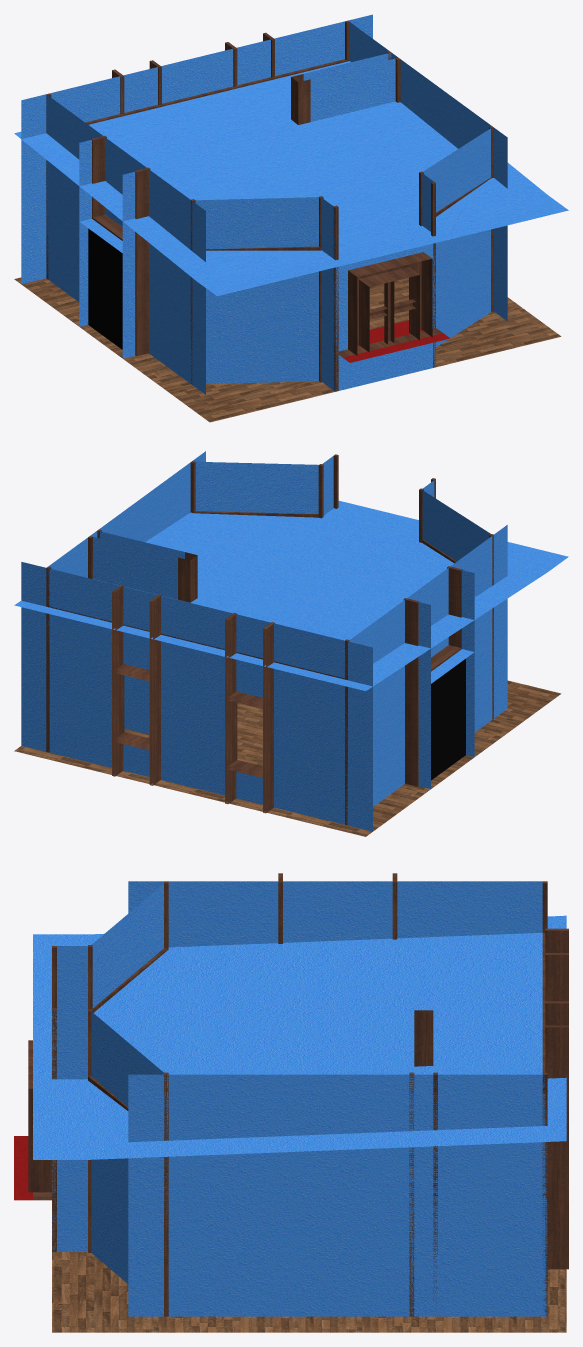
The model's file is fridasceneroom.glb.
3 renders of one model, top to bottom at view 1: azimuth 30°, elevation 25°; view 2: azimuth 150°, elevation 25°; view 3: azimuth 270°, elevation 25°, orthographic. The views are drawn at different scales.
Visible parts, largest first — view 1: sceneroom_ref, RoomDoor; view 2: sceneroom_ref, RoomDoor; view 3: sceneroom_ref.
Part boxes in pixels (x1,y1,x2,y2): sceneroom_ref: (14,14,568,422); RoomDoor: (88,228,122,349); sceneroom_ref: (14,451,568,836); RoomDoor: (431,659,465,780); sceneroom_ref: (14,873,568,1332).
Bounding box in the file's own units: 21.87 × 11.08 × 22.75.
Materials: 6 (4 with a texture image).
